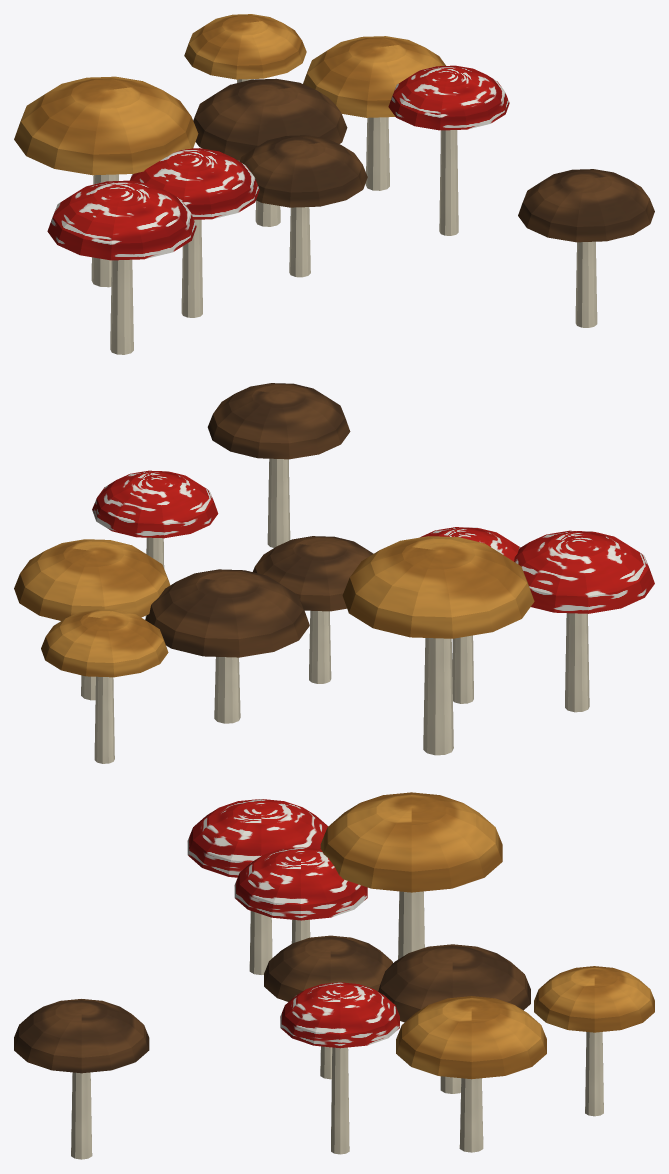
Rendered from ground_fungus_patch_v2.fbx.
3 views of the same model, one above another, from view 1: azimuth 30°, elevation 25°; view 2: azimuth 150°, elevation 25°; view 3: azimuth 270°, elevation 25° (orthographic). The views are drawn at different scales.
Visible parts, largest first — view 1: ground_fungus_patch_v2; view 2: ground_fungus_patch_v2; view 3: ground_fungus_patch_v2.
Boxes of the visible parts, x1,y1,x2,y2 form: ground_fungus_patch_v2: (14,14,654,354); ground_fungus_patch_v2: (14,383,654,763); ground_fungus_patch_v2: (14,792,654,1159).
Size of the model in its own units: 28 by 10.2 by 30.82.
4 materials, 4 textured.
